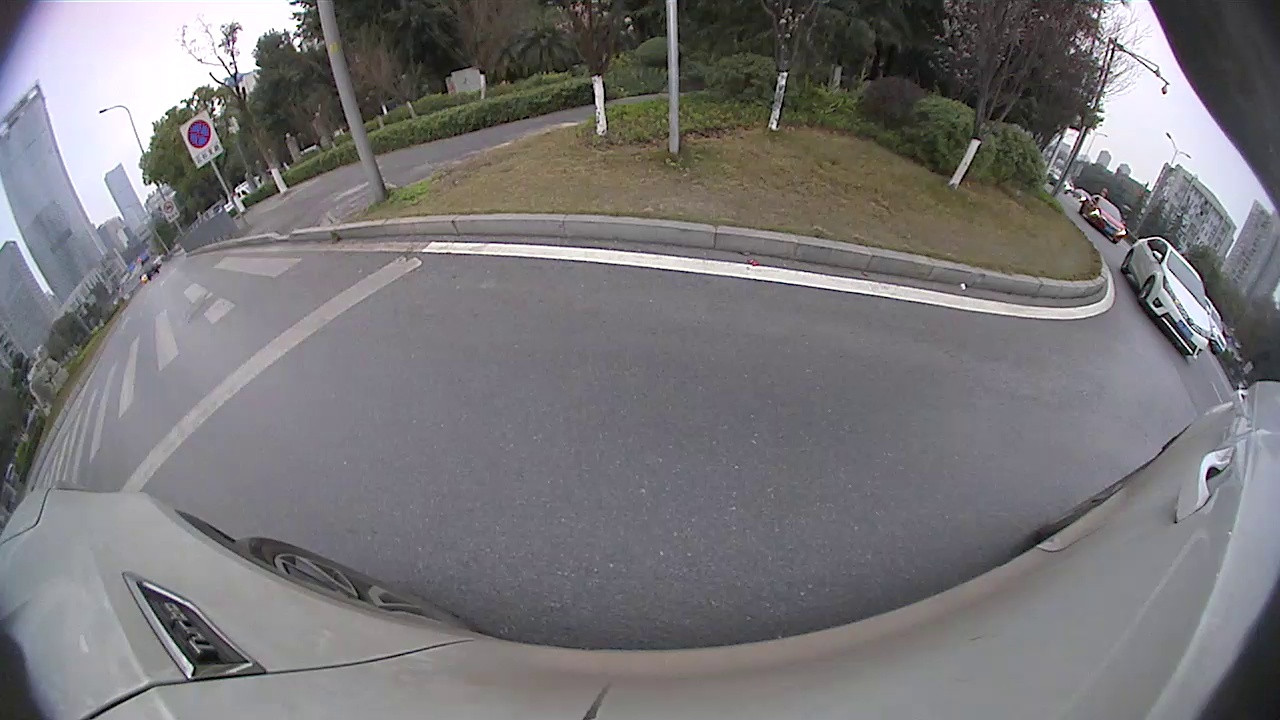bus: (753, 133, 905, 207), (677, 142, 713, 188)
car: (1012, 236, 1278, 452), (894, 152, 1103, 269), (581, 136, 693, 222), (717, 152, 829, 216), (496, 158, 565, 203)
front: (1051, 278, 1132, 372), (899, 203, 920, 227), (717, 180, 729, 200)
rear: (1010, 234, 1042, 270), (745, 186, 756, 207)
